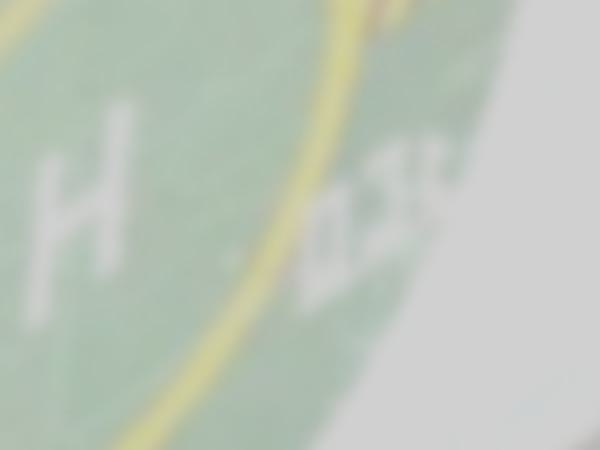Apron: (1, 1, 375, 446)
